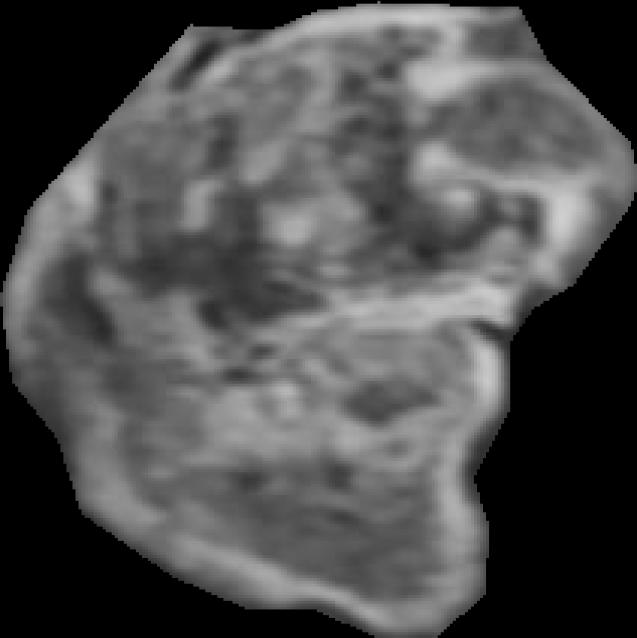tumor_good_chance: (0, 1, 637, 638)
